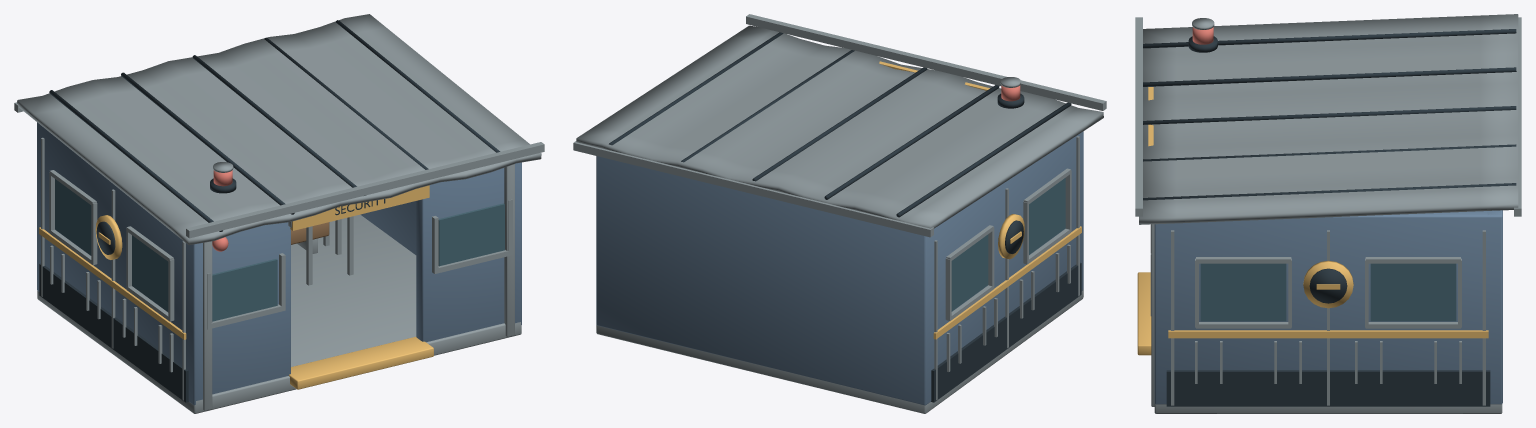
Rendered from AH03_Security.fbx.
The picture shows the model from 3 angles, left to right: view 1: azimuth 30°, elevation 25°; view 2: azimuth 150°, elevation 25°; view 3: azimuth 270°, elevation 25°; orthographic projection. The views are drawn at different scales.
Parts seen in each view (by area): view 1: AH03_Security_AH03_Metal, AH03_Security_AH03_Blue, AH03_Security_AH03_Dark, AH03_Security_AH03_AutoGlass, AH03_Security_AH03_Gold, AH03_Security_AH03_Wood; view 2: AH03_Security_AH03_Metal, AH03_Security_AH03_Blue, AH03_Security_AH03_Dark, AH03_Security_AH03_AutoGlass, AH03_Security_AH03_Gold; view 3: AH03_Security_AH03_Metal, AH03_Security_AH03_Blue, AH03_Security_AH03_Dark, AH03_Security_AH03_AutoGlass, AH03_Security_AH03_Gold.
Boxes of the visible parts, <box> form: AH03_Security_AH03_Metal: <box>14,14,544,413</box>; AH03_Security_AH03_Blue: <box>37,122,521,405</box>; AH03_Security_AH03_Dark: <box>39,20,500,402</box>; AH03_Security_AH03_AutoGlass: <box>55,179,504,321</box>; AH03_Security_AH03_Gold: <box>39,185,433,389</box>; AH03_Security_AH03_Wood: <box>291,222,329,244</box>; AH03_Security_AH03_Metal: <box>573,14,1106,413</box>; AH03_Security_AH03_Blue: <box>596,131,1083,405</box>; AH03_Security_AH03_Dark: <box>609,32,1081,402</box>; AH03_Security_AH03_AutoGlass: <box>951,178,1065,311</box>; AH03_Security_AH03_Gold: <box>879,61,1081,339</box>; AH03_Security_AH03_Metal: <box>1135,14,1521,413</box>; AH03_Security_AH03_Blue: <box>1154,210,1502,404</box>; AH03_Security_AH03_Dark: <box>1143,29,1516,406</box>; AH03_Security_AH03_AutoGlass: <box>1200,263,1456,321</box>; AH03_Security_AH03_Gold: <box>1137,87,1488,355</box>.
Size of the model in its own units: 650 by 385 by 555.
